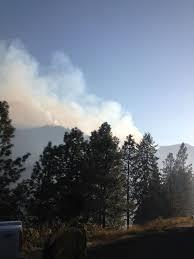yanwu: (1, 35, 148, 145)
